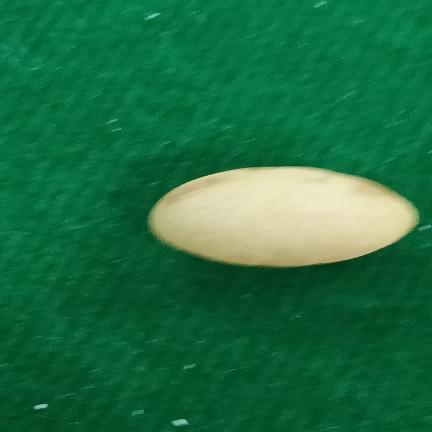parchment: (148, 167, 419, 268)
